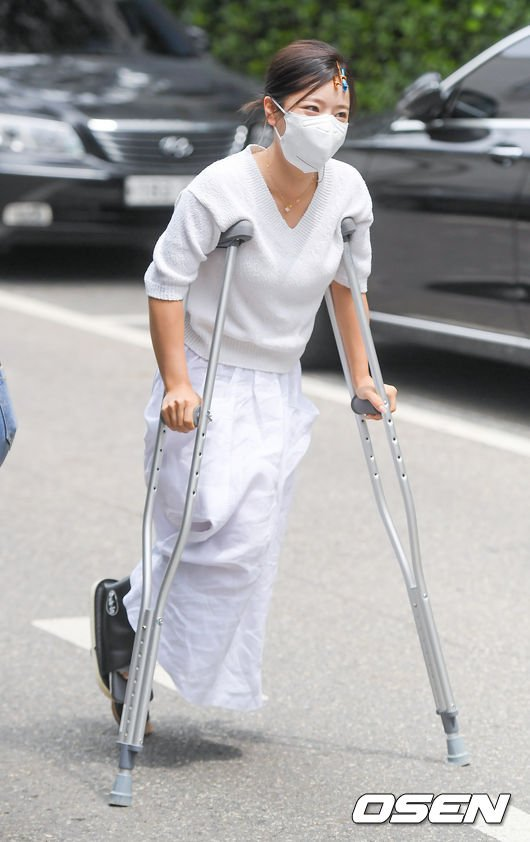crutches: (86, 40, 467, 806)
